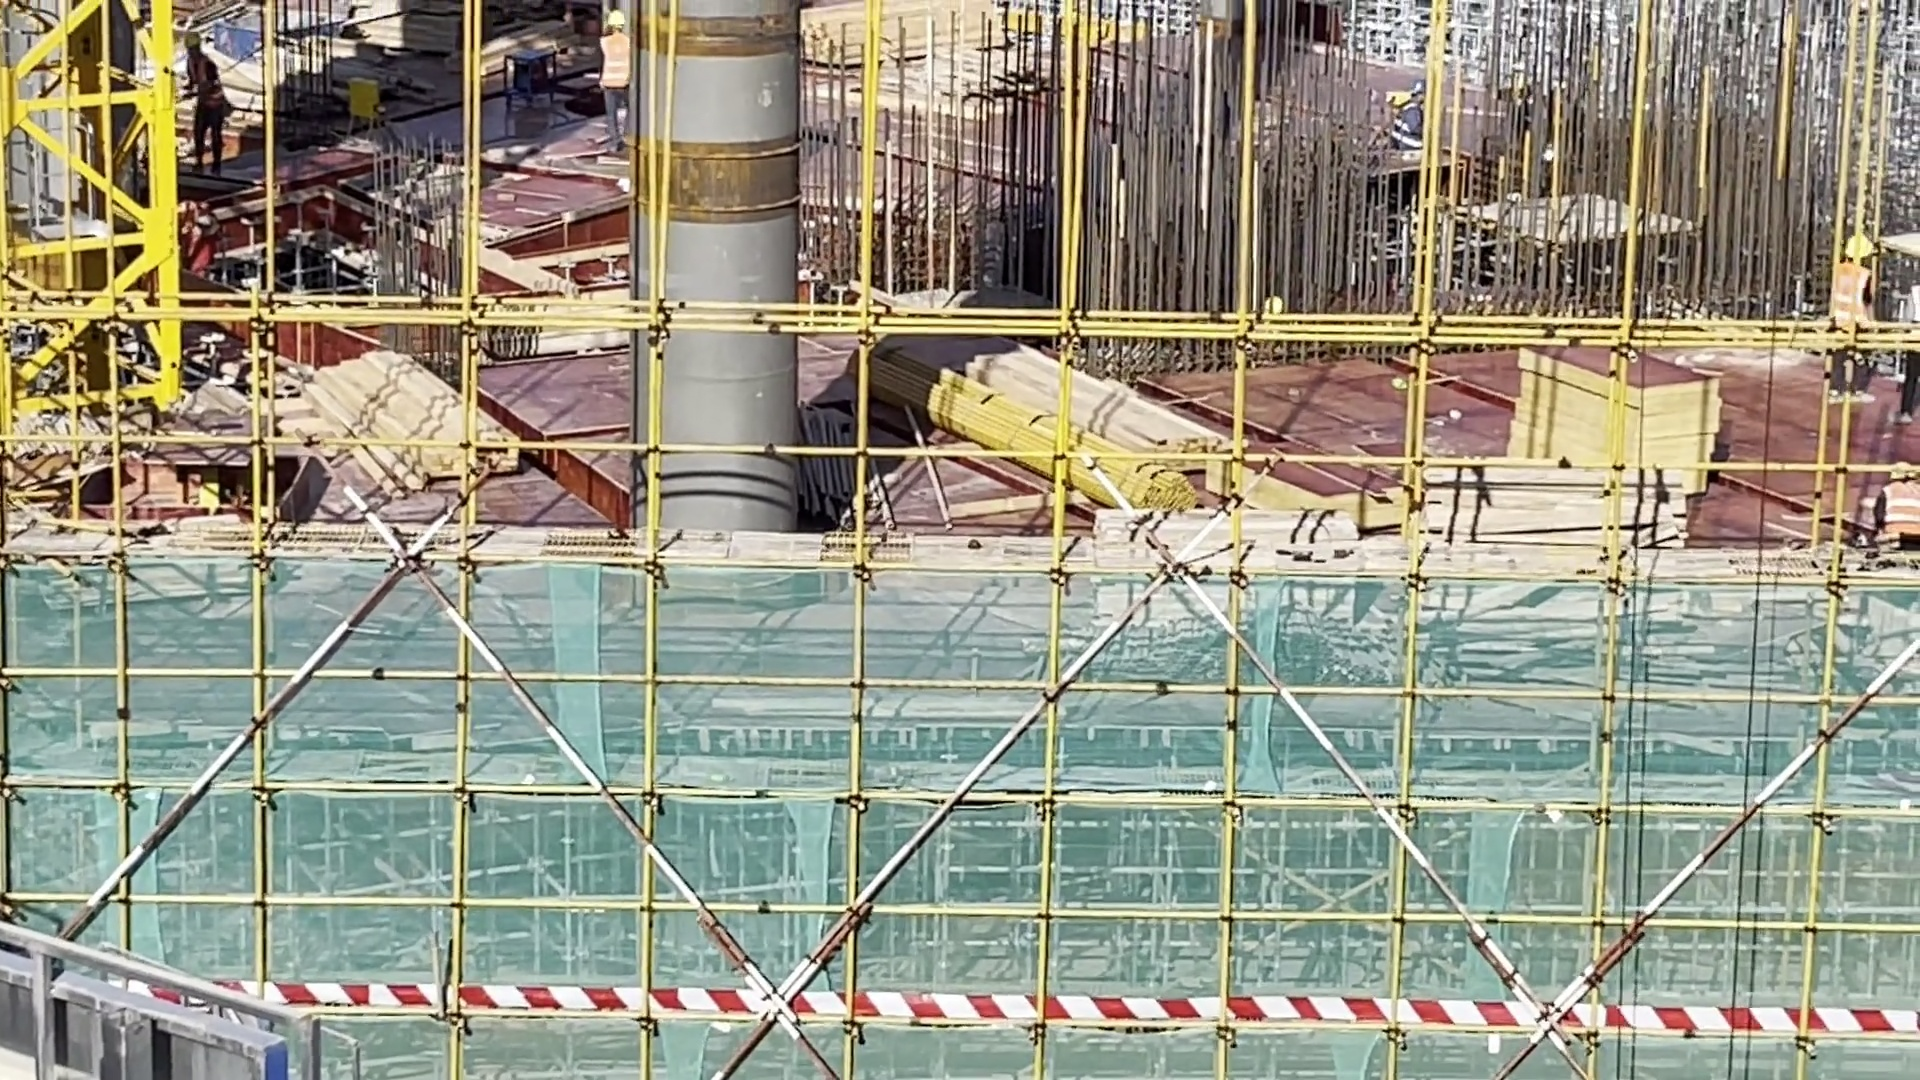board: (1516, 333, 1719, 479)
helmet: (1844, 230, 1871, 260), (604, 11, 626, 27)
person: (1826, 223, 1879, 393), (179, 30, 233, 177), (583, 8, 640, 134)
vest: (1835, 263, 1868, 330)
wood: (928, 353, 1248, 503), (286, 347, 531, 496), (1431, 464, 1698, 545)
